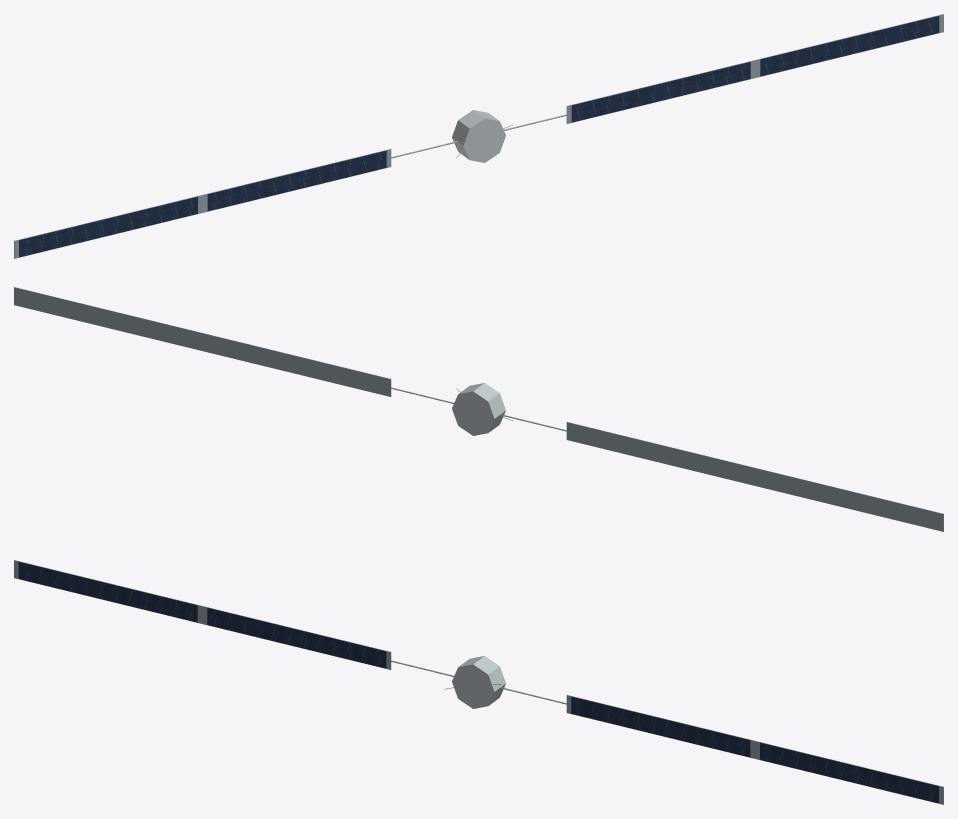
File: ref-nts-10091.glb
3 views of the same model, one above another, from view 1: azimuth 30°, elevation 25°; view 2: azimuth 150°, elevation 25°; view 3: azimuth 330°, elevation 25° (orthographic).
Parts seen in each view (by area): view 1: Photovoltaic laminates (×4), Array frame (×4), Spacecraft body; view 2: Array frame (×4), Spacecraft body; view 3: Photovoltaic laminates (×4), Array frame (×4), Spacecraft body.
Boxes of the visible parts, x1,y1,x2,y2 form: Photovoltaic laminates (×4): (19, 16, 939, 257); Array frame (×4): (14, 14, 943, 258); Spacecraft body: (452, 110, 505, 162); Array frame (×4): (14, 287, 943, 531); Spacecraft body: (452, 383, 505, 435); Photovoltaic laminates (×4): (18, 562, 938, 803); Array frame (×4): (14, 560, 943, 804); Spacecraft body: (452, 656, 505, 708).
Size of the model in its own units: 37 by 1.7 by 0.8328.
3 materials, 1 textured.
